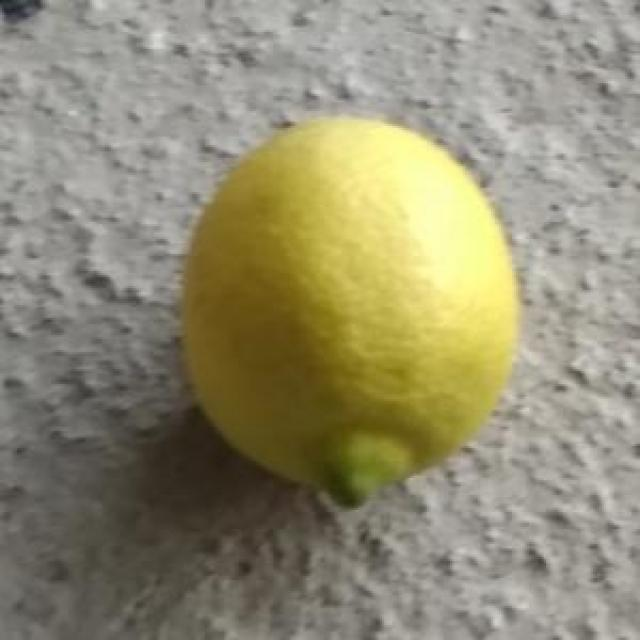lemon: (175, 120, 518, 505)
